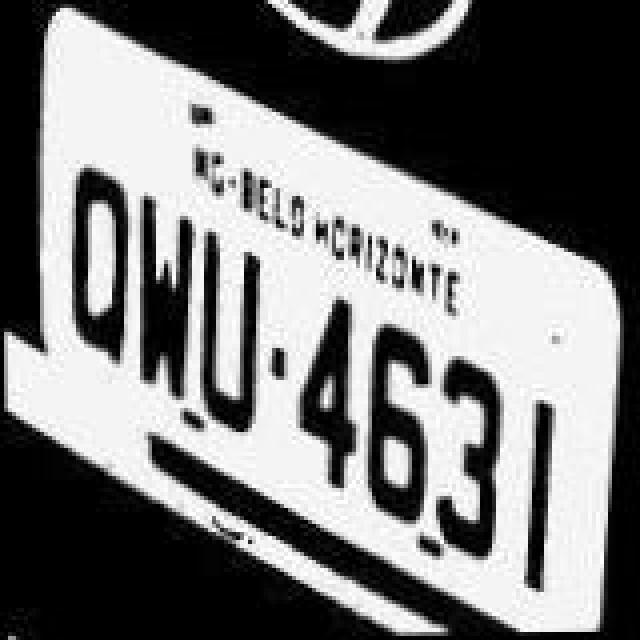1: (510, 388, 574, 600)
3: (430, 354, 510, 570)
4: (290, 294, 358, 498)
6: (360, 322, 436, 534)
Q: (60, 160, 140, 364)
U: (192, 232, 264, 444)
W: (128, 186, 200, 402)
